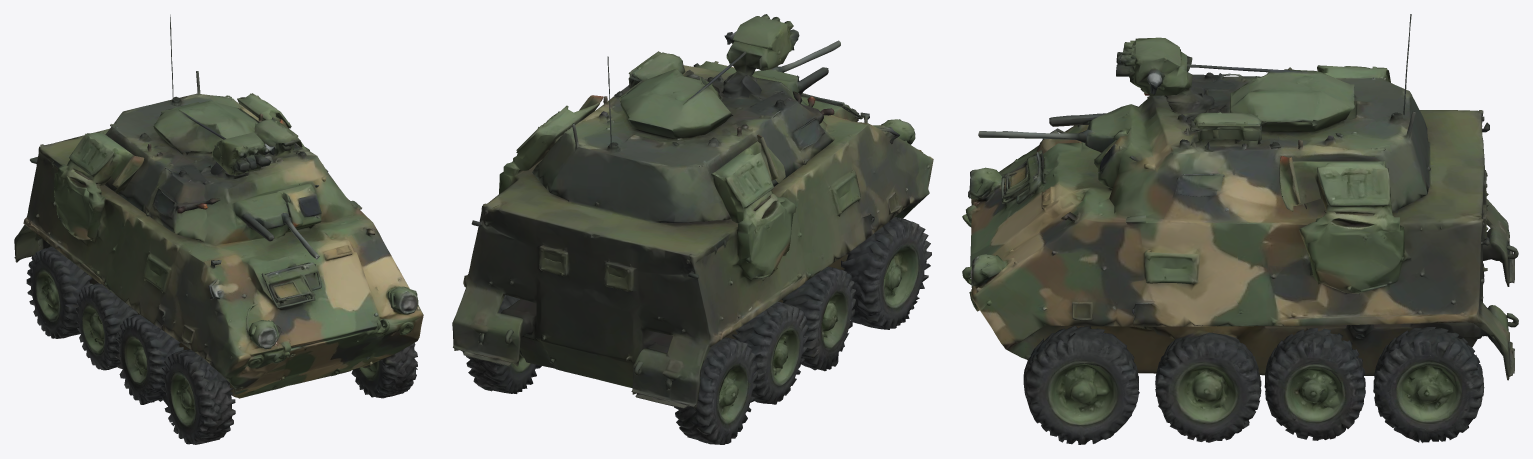
The model's file is apc.glb.
3 renders of one model, left to right at view 1: azimuth 30°, elevation 25°; view 2: azimuth 150°, elevation 25°; view 3: azimuth 270°, elevation 25°, orthographic. The views are drawn at different scales.
Parts seen in each view (by area): view 1: tripo_node_162b0f45-67c0-4c9f-871a-2c709ee9b006; view 2: tripo_node_162b0f45-67c0-4c9f-871a-2c709ee9b006; view 3: tripo_node_162b0f45-67c0-4c9f-871a-2c709ee9b006.
Part boxes in pixels (x1=…): tripo_node_162b0f45-67c0-4c9f-871a-2c709ee9b006: x1=14, y1=14, x2=423, y2=444; tripo_node_162b0f45-67c0-4c9f-871a-2c709ee9b006: x1=452, y1=14, x2=933, y2=444; tripo_node_162b0f45-67c0-4c9f-871a-2c709ee9b006: x1=962, y1=14, x2=1518, y2=444.
Bounding box in the file's own units: 0.5742 × 0.7463 × 1.
Materials: 1 (1 with a texture image).
